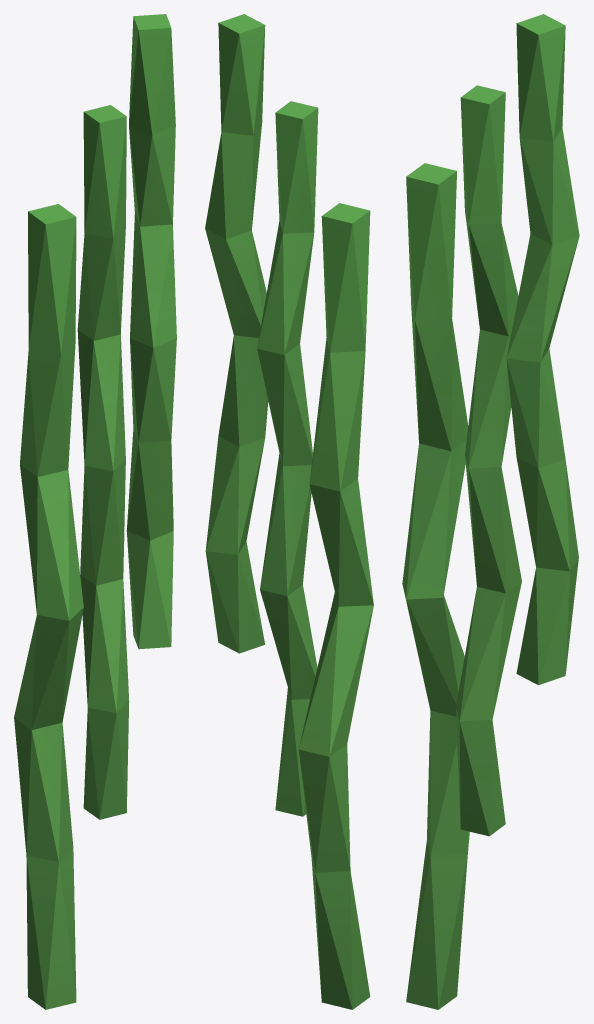
File: vine_strands.glb
3 renders of one model, left to right at view 1: azimuth 30°, elevation 25°; view 2: azimuth 150°, elevation 25°; view 3: azimuth 330°, elevation 25°, orthographic. The views are drawn at different scales.
Parts seen in each view (by area): view 1: Vine_A_1; view 2: Vine_A_1; view 3: Vine_A_1.
Boxes of the visible parts, left/top/right/bottom form: Vine_A_1: left=14, top=14, right=176, bottom=1009; Vine_A_1: left=205, top=14, right=373, bottom=1009; Vine_A_1: left=402, top=14, right=579, bottom=1009.
Bounding box in the file's own units: 0.2636 × 1.6 × 0.1464.
1 material, 1 textured.
